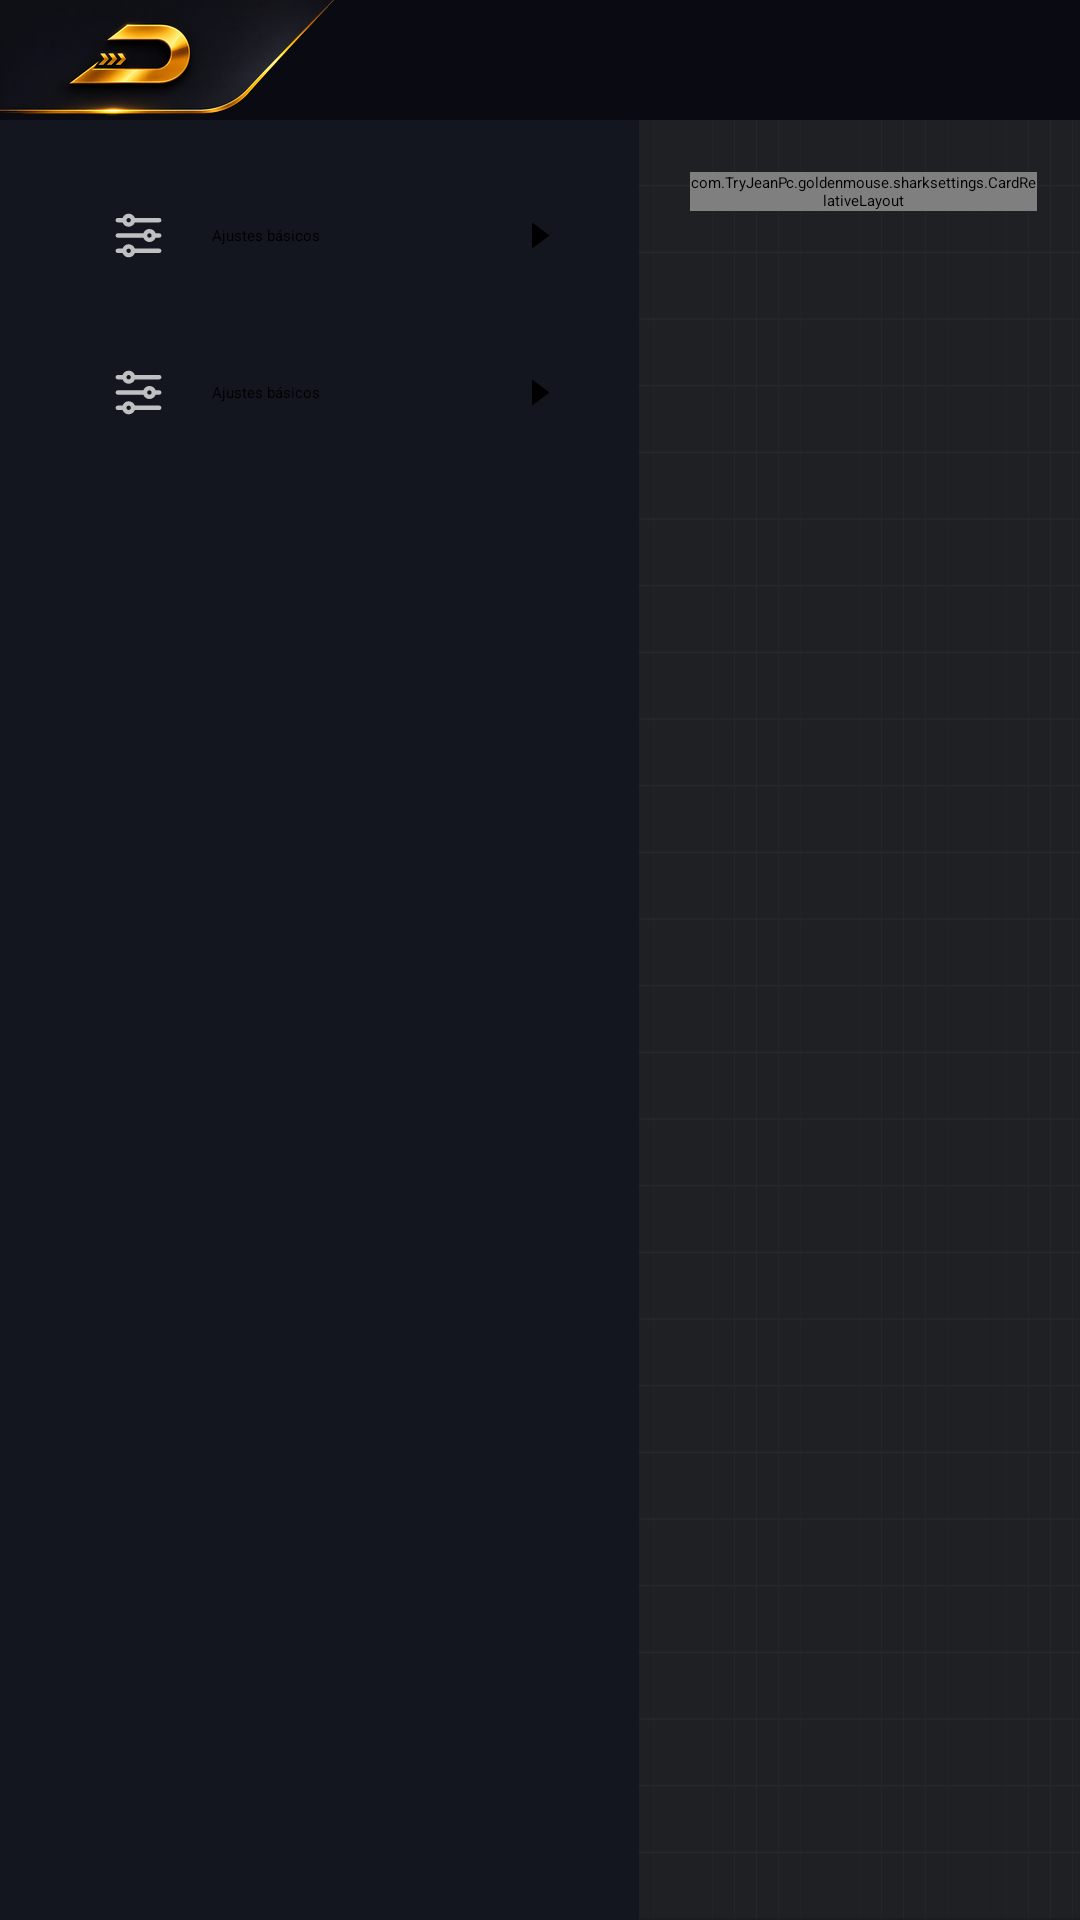

Point at icon controls on the screen. Image size 1080x1920, points as (x,y).
shark settings basic setting: (138,235), (138,392)
shark settings tab arrow: (540,235), (540,392)
